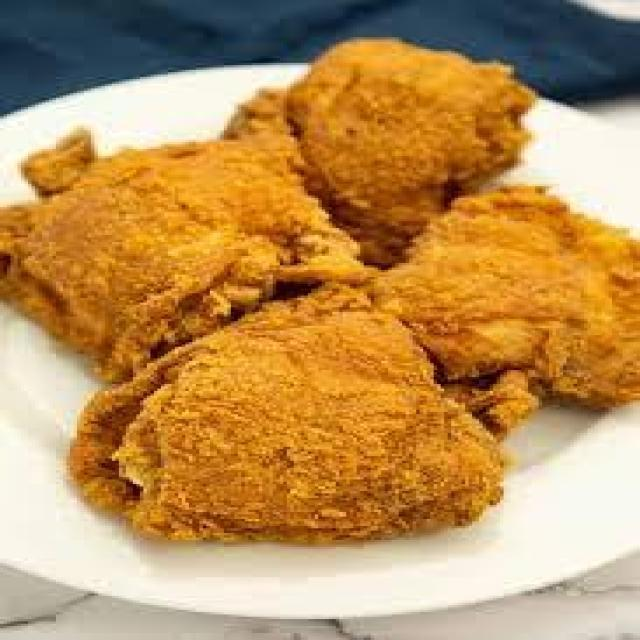Chicken -Fried Chicken-: (99, 281, 515, 534)
